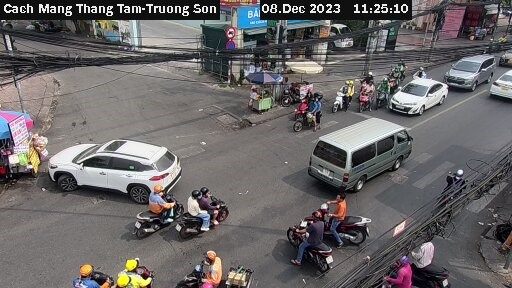car: (48, 130, 184, 199), (306, 116, 414, 188), (393, 75, 447, 117), (445, 48, 493, 95), (493, 61, 512, 98)
motorbike: (302, 191, 373, 244), (281, 217, 331, 274), (178, 188, 235, 237), (134, 192, 183, 238), (432, 164, 476, 201), (170, 256, 211, 288), (119, 256, 161, 284), (420, 257, 455, 287), (295, 100, 325, 130), (355, 82, 377, 112), (81, 261, 108, 285), (331, 87, 355, 112)
